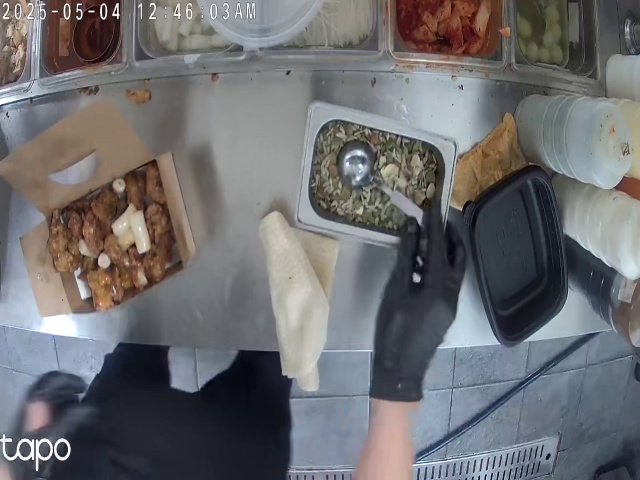delivery box: (25, 105, 187, 309)
food: (60, 209, 169, 285)
hand: (376, 220, 463, 383)
